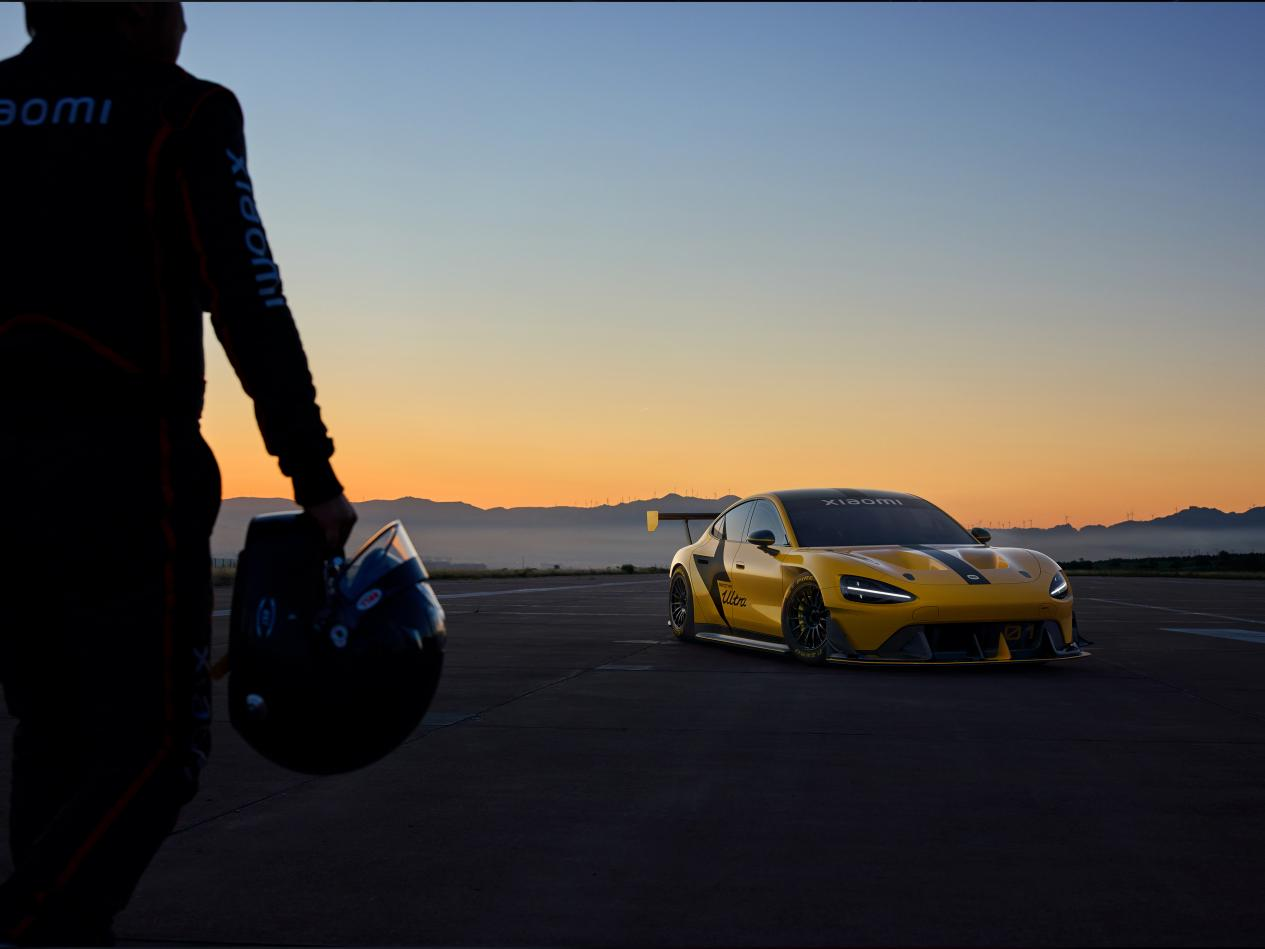su7: (659, 492, 1092, 677)
